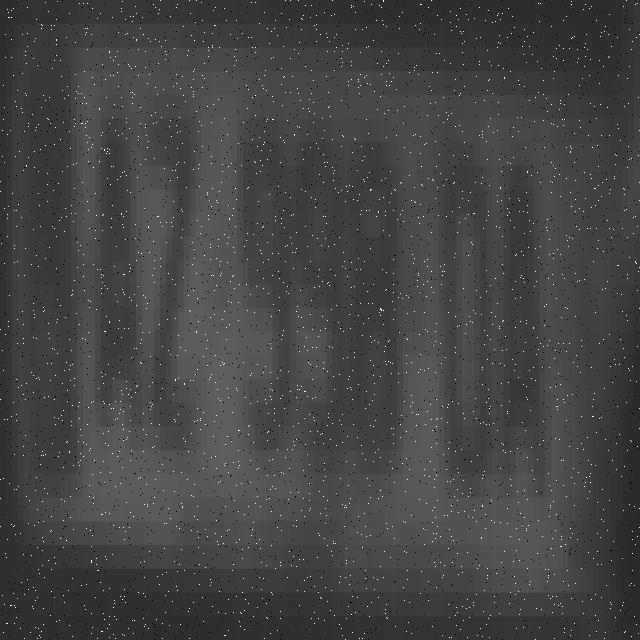EU: (11, 46, 631, 576)
